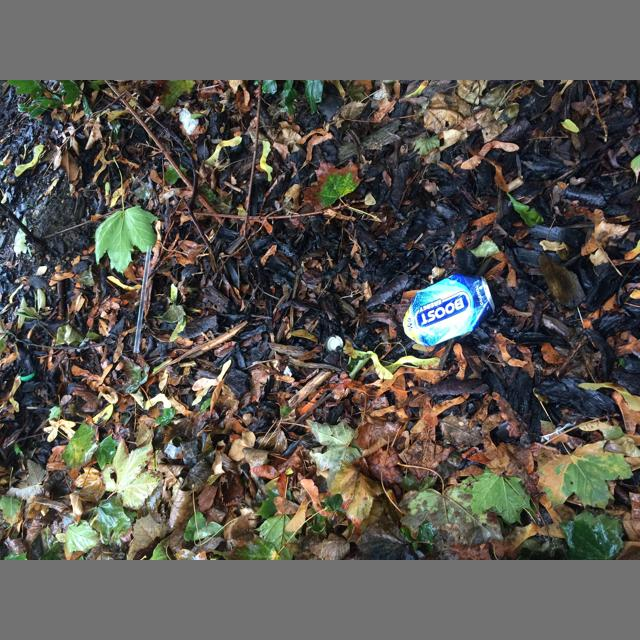litter: (403, 274, 495, 347), (133, 246, 152, 353), (325, 335, 343, 353)
